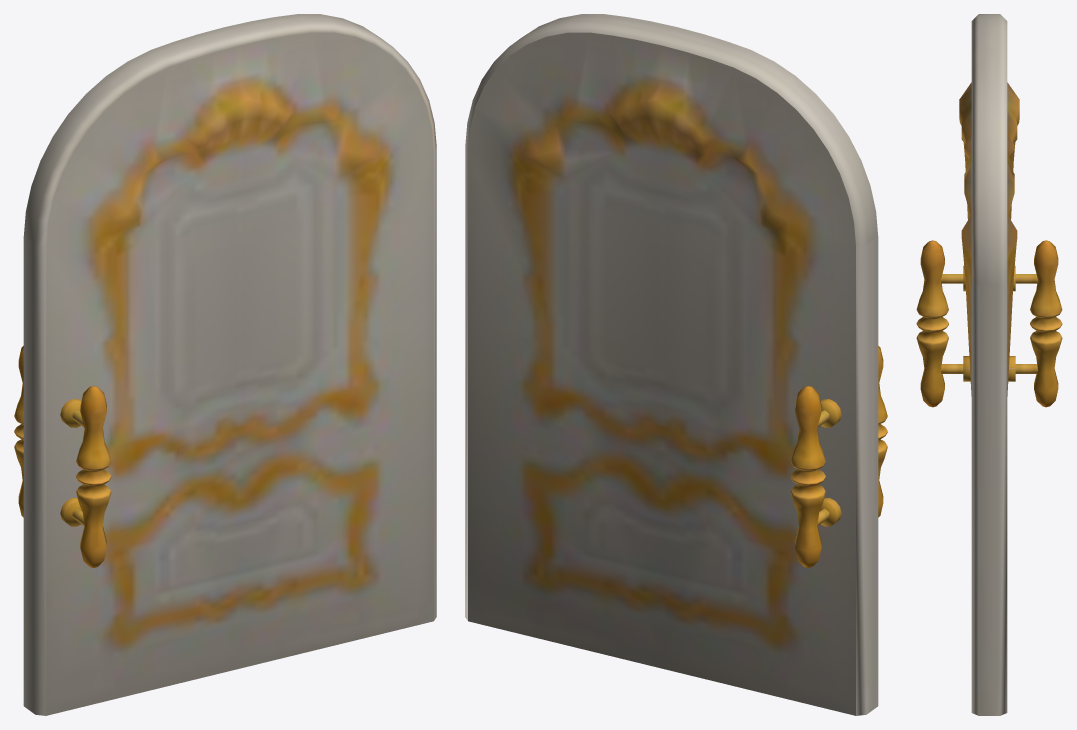
Rendered from door-carving-r.glb.
3 renders of one model, left to right at view 1: azimuth 30°, elevation 25°; view 2: azimuth 150°, elevation 25°; view 3: azimuth 270°, elevation 25°, orthographic. The views are drawn at different scales.
Bounding box in the file's own units: 12 × 18 × 4.13.
1 material, 1 textured.
